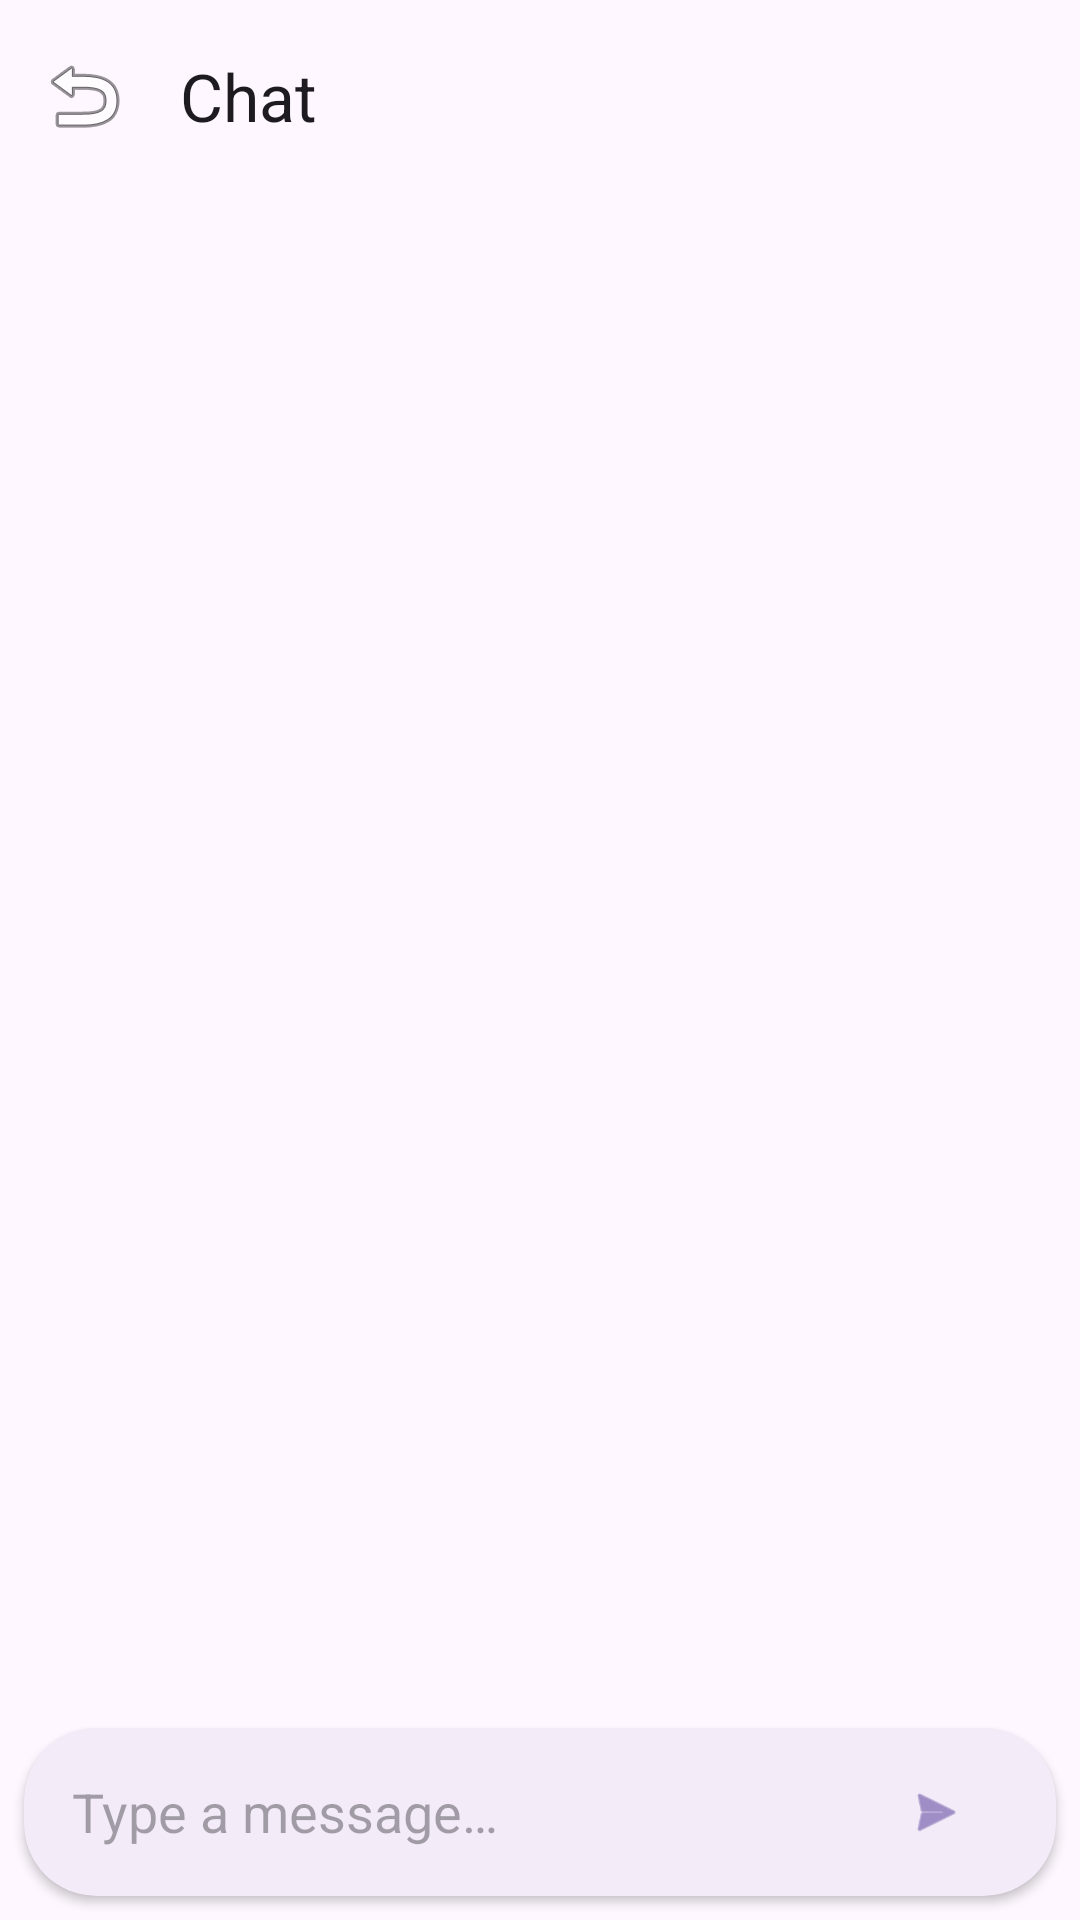

Named icons in this screenshot (1080x1920) and their bounding boxes, (x1, y1, x2, y2):
send: (917, 1793, 956, 1831)
